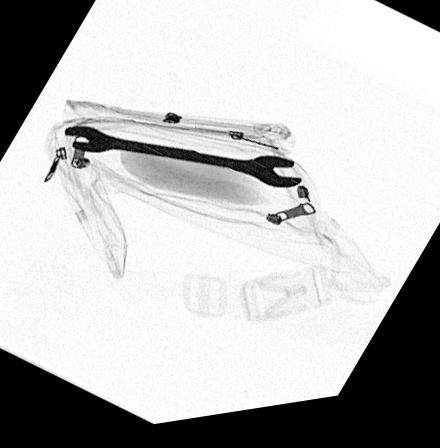Wrench: (61, 127, 300, 195)
